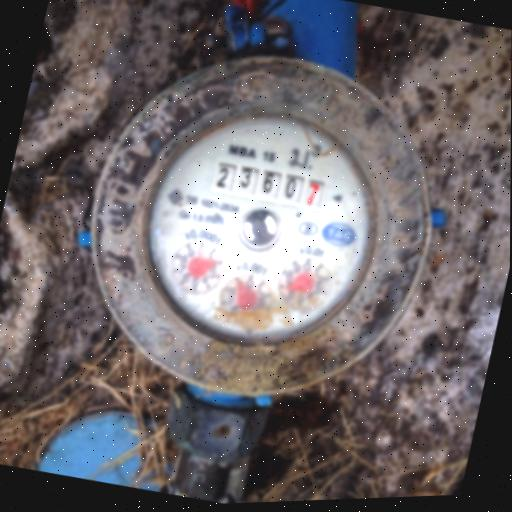0: (281, 175, 305, 203)
2: (213, 163, 236, 191)
3: (236, 167, 260, 195)
6: (259, 169, 279, 196)
7: (304, 179, 325, 207)
border_water_meter_number: (204, 152, 333, 217)
